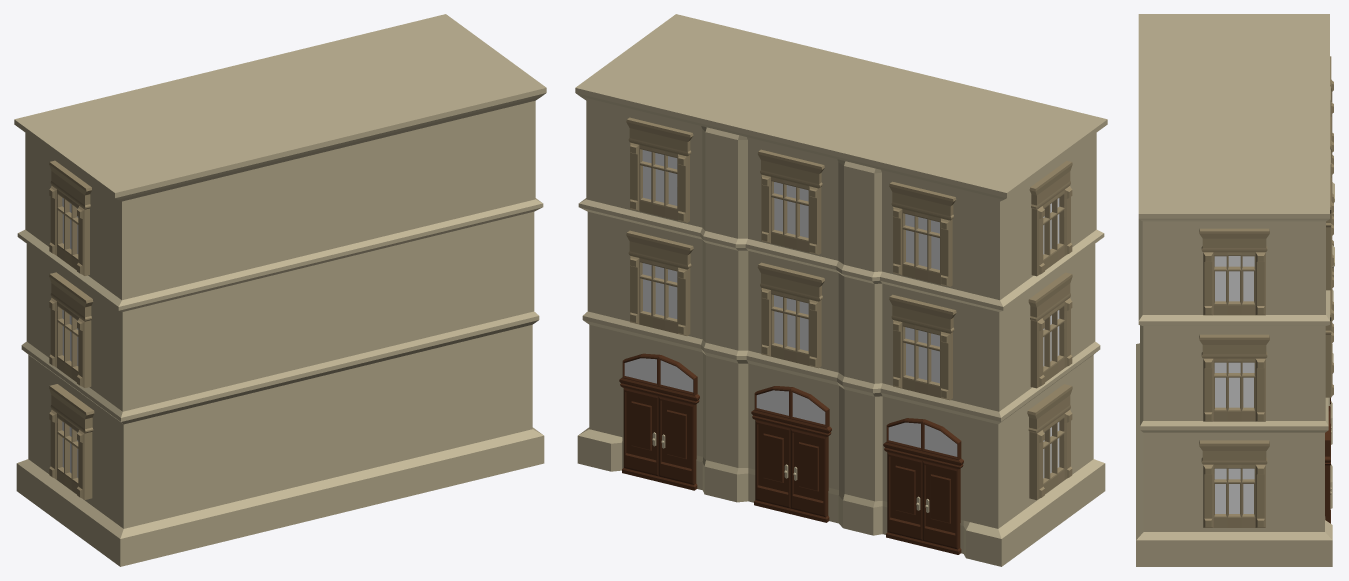
Rendered from AppartmentRichColoursB.fbx.
The picture shows the model from 3 angles, left to right: view 1: azimuth 30°, elevation 25°; view 2: azimuth 150°, elevation 25°; view 3: azimuth 270°, elevation 25°; orthographic projection. The views are drawn at different scales.
Parts seen in each view (by area): view 1: AppartmentRichColoursB; view 2: AppartmentRichColoursB; view 3: AppartmentRichColoursB.
Boxes of the visible parts, x1,y1,x2,y2 form: AppartmentRichColoursB: [14, 14, 546, 566]; AppartmentRichColoursB: [575, 14, 1107, 566]; AppartmentRichColoursB: [1136, 14, 1334, 566].
Size of the model in its own units: 1147 by 482 by 950.
